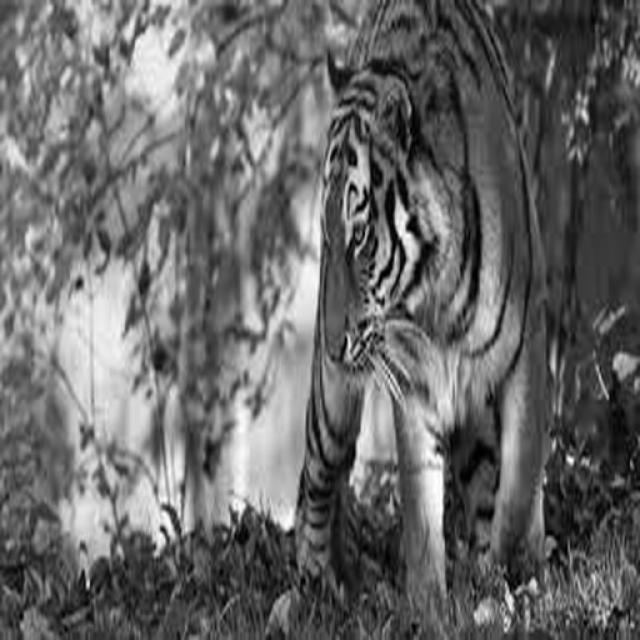Tiger: (287, 0, 561, 632)
